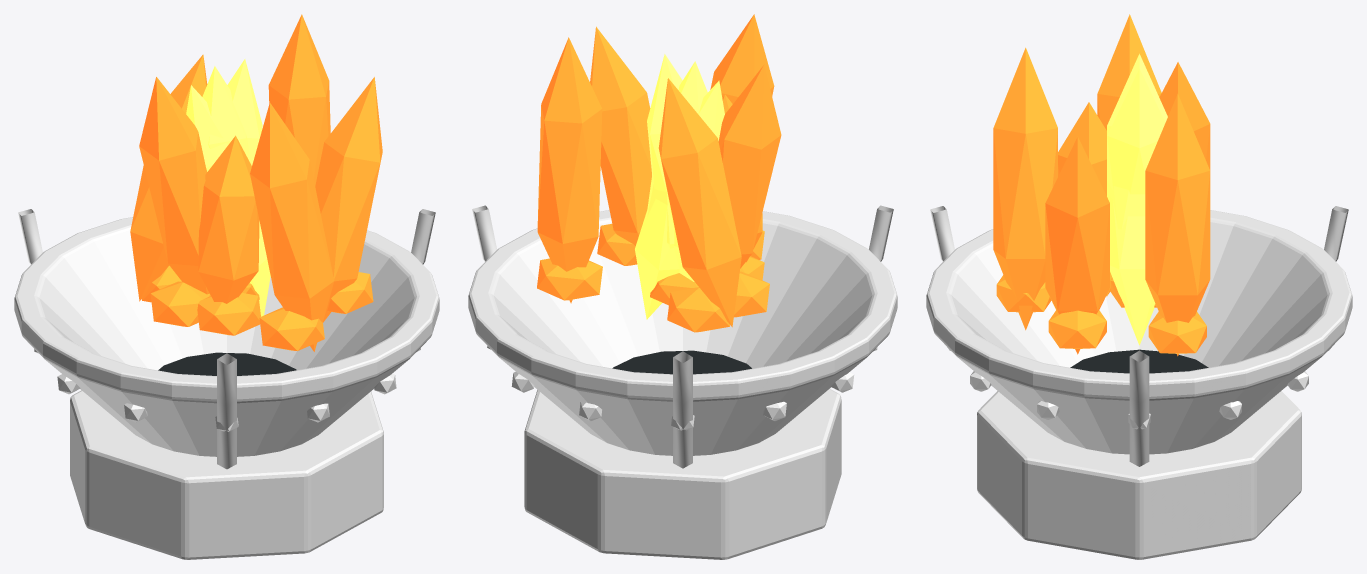
File: AS_16_Brazier_Low.glb
3 renders of one model, left to right at view 1: azimuth 30°, elevation 25°; view 2: azimuth 150°, elevation 25°; view 3: azimuth 270°, elevation 25°, orthographic.
Visible parts, largest first — view 1: AS_16_Brazier_Low__hollow fire bowl, AS_16_Brazier_Low__base, AS_16_Brazier_Low__flame.003, AS_16_Brazier_Low__flame.006, AS_16_Brazier_Low__flame.005, AS_16_Brazier_Low__flame.008, AS_16_Brazier_Low__flame, AS_16_Brazier_Low__flame.002, AS_16_Brazier_Low__flame.004, AS_16_Brazier_Low__claw support, AS_16_Brazier_Low__hot coal.008, AS_16_Brazier_Low__hot coal.003 (+7 smaller); view 2: AS_16_Brazier_Low__hollow fire bowl, AS_16_Brazier_Low__base, AS_16_Brazier_Low__flame, AS_16_Brazier_Low__flame.002, AS_16_Brazier_Low__flame.006, AS_16_Brazier_Low__flame.005, AS_16_Brazier_Low__flame.004, AS_16_Brazier_Low__flame.003, AS_16_Brazier_Low__claw support.002, AS_16_Brazier_Low__flame.007, AS_16_Brazier_Low__hot coal, AS_16_Brazier_Low__coal bed (+7 smaller); view 3: AS_16_Brazier_Low__hollow fire bowl, AS_16_Brazier_Low__base, AS_16_Brazier_Low__flame.003, AS_16_Brazier_Low__flame, AS_16_Brazier_Low__flame.006, AS_16_Brazier_Low__flame.007, AS_16_Brazier_Low__flame.004, AS_16_Brazier_Low__flame.005, AS_16_Brazier_Low__claw support.001, AS_16_Brazier_Low__flame.008, AS_16_Brazier_Low__coal bed, AS_16_Brazier_Low__hot coal.006 (+6 smaller).
Boxes of the visible parts, bbox=[...] form: AS_16_Brazier_Low__hollow fire bowl: bbox=[14, 217, 439, 456]; AS_16_Brazier_Low__base: bbox=[70, 390, 383, 559]; AS_16_Brazier_Low__flame.003: bbox=[250, 102, 334, 351]; AS_16_Brazier_Low__flame.006: bbox=[315, 77, 382, 322]; AS_16_Brazier_Low__flame.005: bbox=[139, 77, 209, 294]; AS_16_Brazier_Low__flame.008: bbox=[198, 135, 259, 303]; AS_16_Brazier_Low__flame: bbox=[268, 14, 330, 186]; AS_16_Brazier_Low__flame.002: bbox=[130, 54, 207, 301]; AS_16_Brazier_Low__flame.004: bbox=[186, 85, 270, 316]; AS_16_Brazier_Low__claw support: bbox=[217, 353, 236, 469]; AS_16_Brazier_Low__hot coal.008: bbox=[197, 293, 260, 335]; AS_16_Brazier_Low__hot coal.003: bbox=[259, 307, 324, 350]; AS_16_Brazier_Low__hollow fire bowl: bbox=[468, 210, 897, 455]; AS_16_Brazier_Low__base: bbox=[524, 388, 841, 559]; AS_16_Brazier_Low__flame: bbox=[537, 37, 602, 303]; AS_16_Brazier_Low__flame.002: bbox=[658, 78, 741, 327]; AS_16_Brazier_Low__flame.006: bbox=[590, 26, 651, 245]; AS_16_Brazier_Low__flame.005: bbox=[718, 64, 781, 268]; AS_16_Brazier_Low__flame.004: bbox=[635, 80, 724, 319]; AS_16_Brazier_Low__flame.003: bbox=[710, 14, 774, 103]; AS_16_Brazier_Low__claw support.002: bbox=[673, 351, 692, 468]; AS_16_Brazier_Low__flame.007: bbox=[647, 54, 694, 281]; AS_16_Brazier_Low__hot coal: bbox=[537, 258, 602, 300]; AS_16_Brazier_Low__coal bed: bbox=[612, 350, 751, 374]; AS_16_Brazier_Low__hollow fire bowl: bbox=[926, 210, 1352, 454]; AS_16_Brazier_Low__base: bbox=[977, 391, 1301, 559]; AS_16_Brazier_Low__flame.003: bbox=[993, 47, 1057, 330]; AS_16_Brazier_Low__flame: bbox=[1145, 94, 1210, 356]; AS_16_Brazier_Low__flame.006: bbox=[1045, 137, 1109, 354]; AS_16_Brazier_Low__flame.007: bbox=[1107, 68, 1165, 194]; AS_16_Brazier_Low__flame.004: bbox=[1107, 193, 1155, 345]; AS_16_Brazier_Low__flame.005: bbox=[1097, 14, 1161, 130]; AS_16_Brazier_Low__claw support.001: bbox=[1129, 350, 1149, 466]; AS_16_Brazier_Low__flame.008: bbox=[1058, 102, 1106, 195]; AS_16_Brazier_Low__coal bed: bbox=[1070, 349, 1208, 373]; AS_16_Brazier_Low__hot coal.006: bbox=[1048, 310, 1106, 348].
Size of the model in its own units: 1.2 by 1.29 by 1.12.
